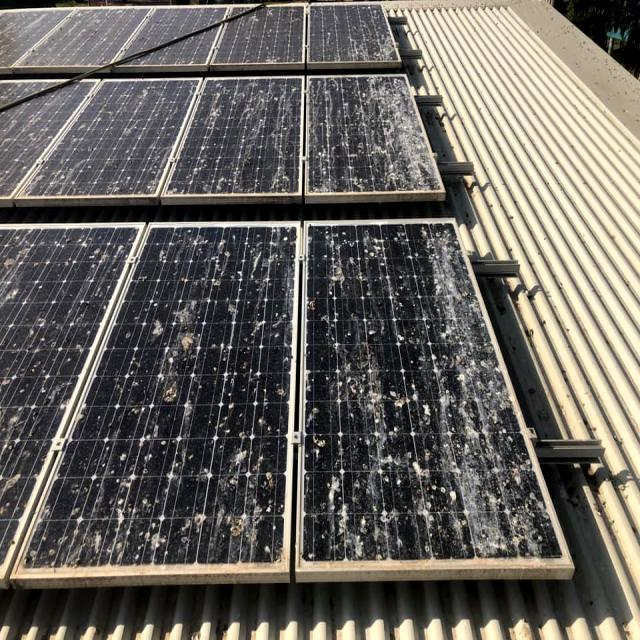soiled: (1, 225, 580, 576), (1, 83, 461, 204), (1, 8, 417, 65)
